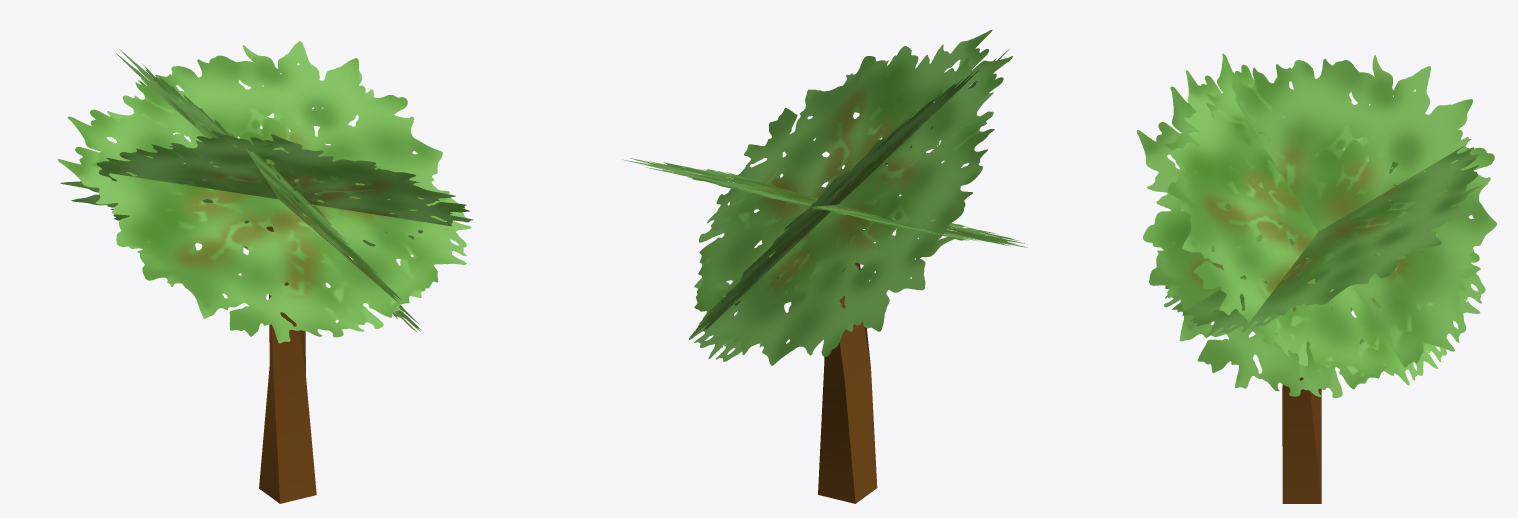
Rendered from tree_middle.fbx.
3 views of the same model, side by side, from view 1: azimuth 30°, elevation 25°; view 2: azimuth 150°, elevation 25°; view 3: azimuth 270°, elevation 25° (orthographic). The views are drawn at different scales.
Visible parts, largest first — view 1: pPlane12; view 2: pPlane12; view 3: pPlane12.
Part boxes in pixels (x1,y1,x2,y2): pPlane12: (57,41,473,503); pPlane12: (622,30,1027,503); pPlane12: (1137,53,1497,503).
Bounding box in the file's own units: 0.5879 × 0.7449 × 0.5993.
